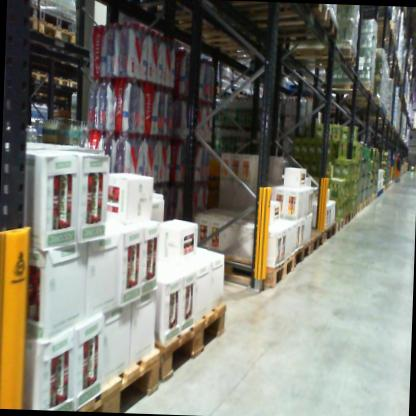forklift: (392, 142, 406, 182)
pallet: (149, 279, 231, 404), (72, 334, 166, 412), (211, 246, 295, 295), (240, 8, 344, 45), (225, 1, 330, 36), (287, 39, 362, 74), (38, 16, 79, 50), (297, 225, 325, 261), (287, 236, 311, 277), (326, 79, 376, 95), (23, 15, 40, 48), (27, 65, 50, 89), (319, 222, 337, 248), (70, 78, 91, 98), (50, 71, 72, 89), (333, 213, 345, 233), (340, 211, 352, 230)
